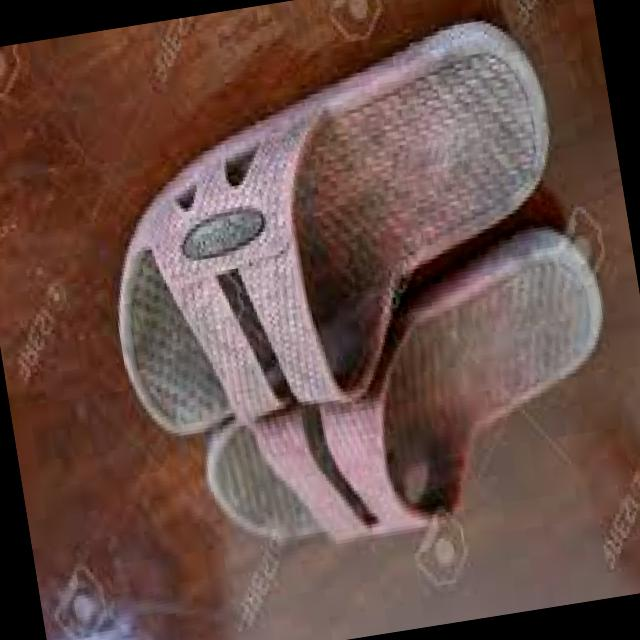giay: (117, 23, 548, 435), (205, 229, 602, 541)
